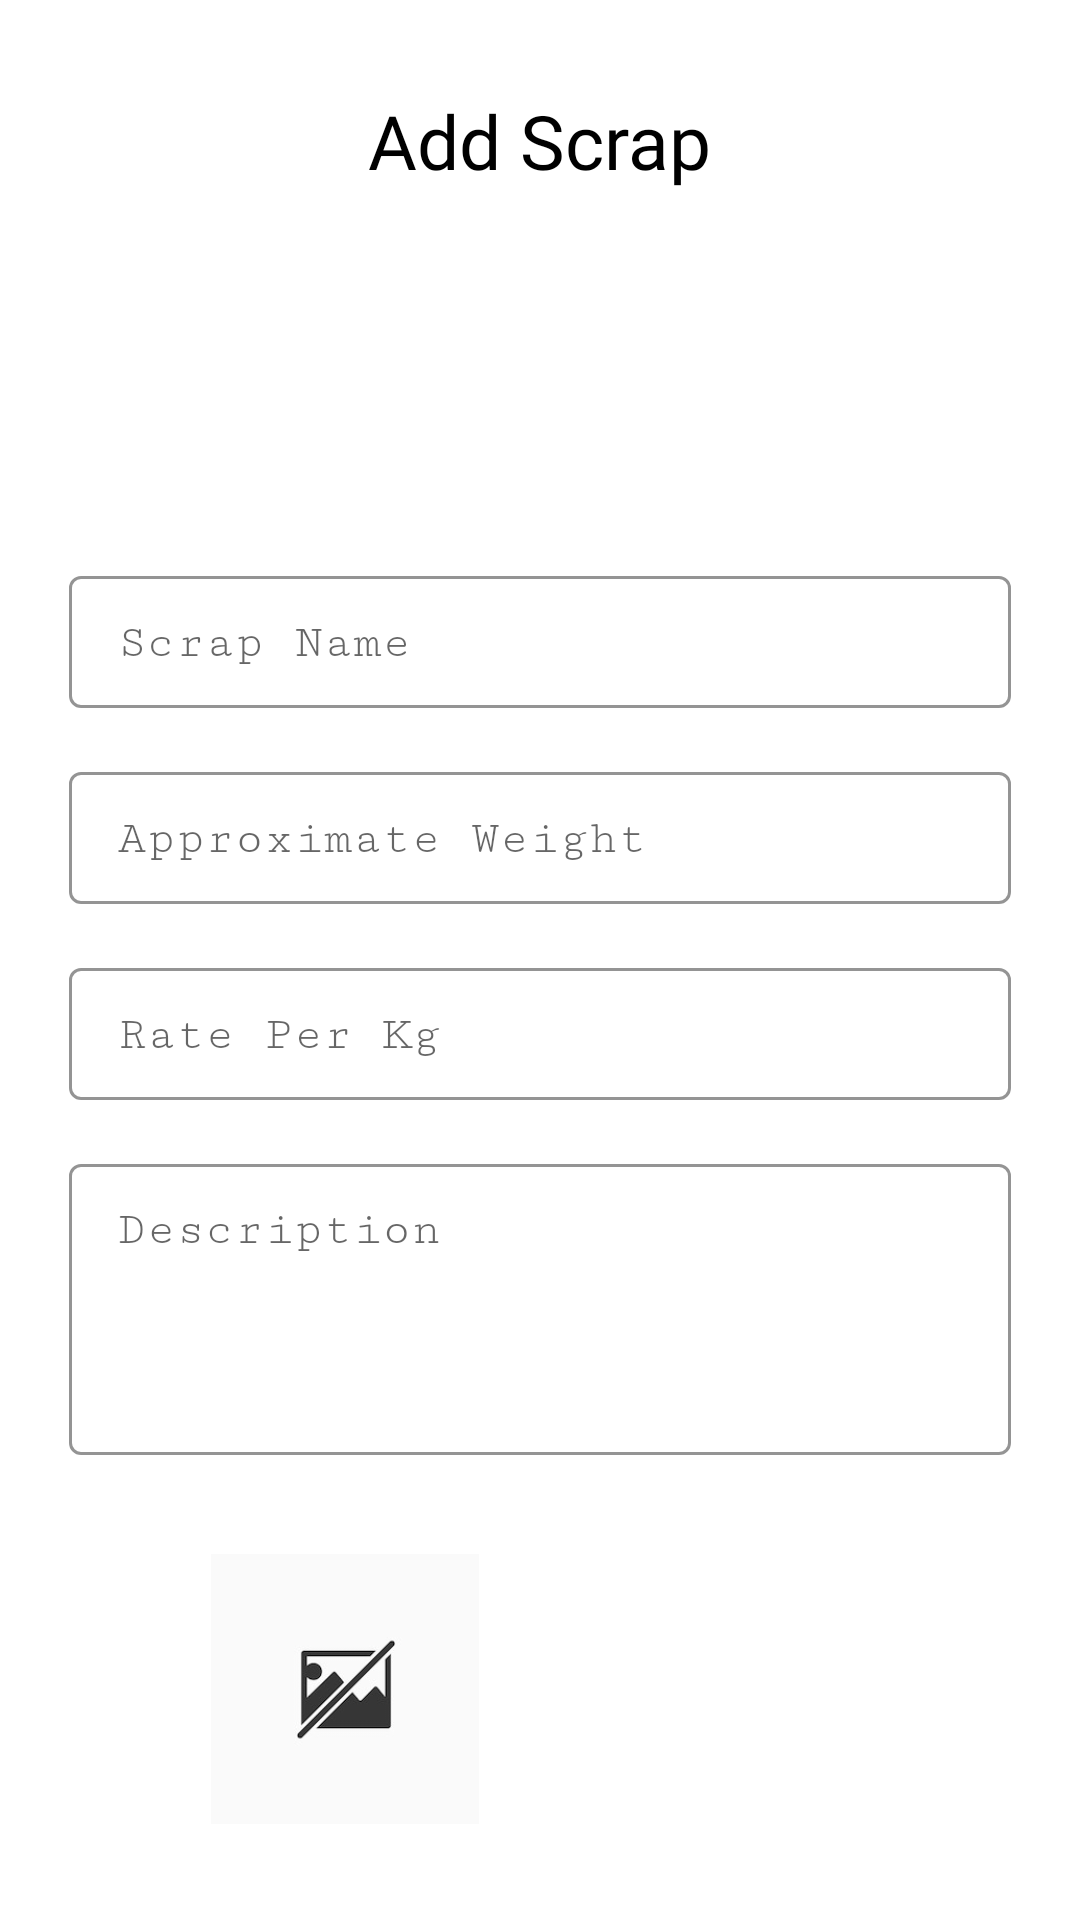

Icon bounding boxes for this 1080*1920 phone screenshot, format (x1, y1, x2, y2):
noimg: (297, 1640, 395, 1739)
